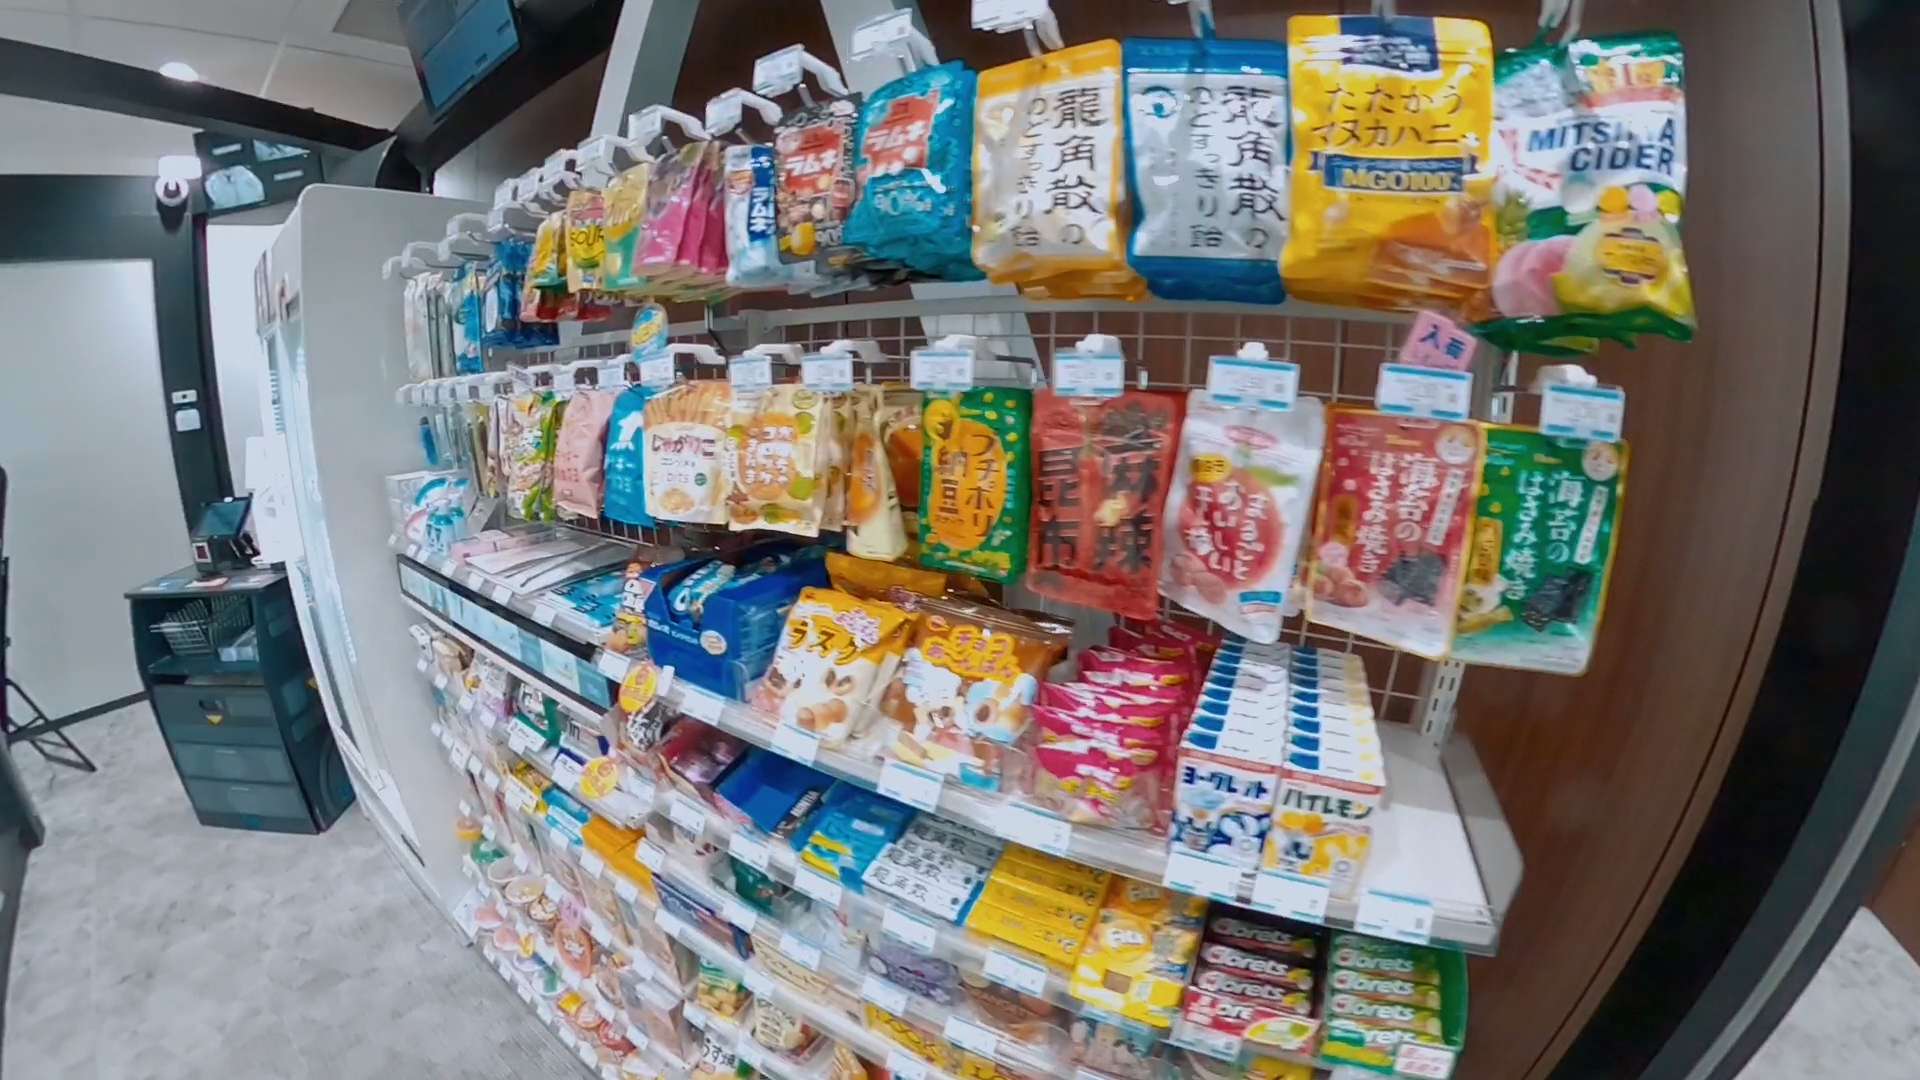NorinoHasamiyaki: (1451, 424, 1628, 671)
